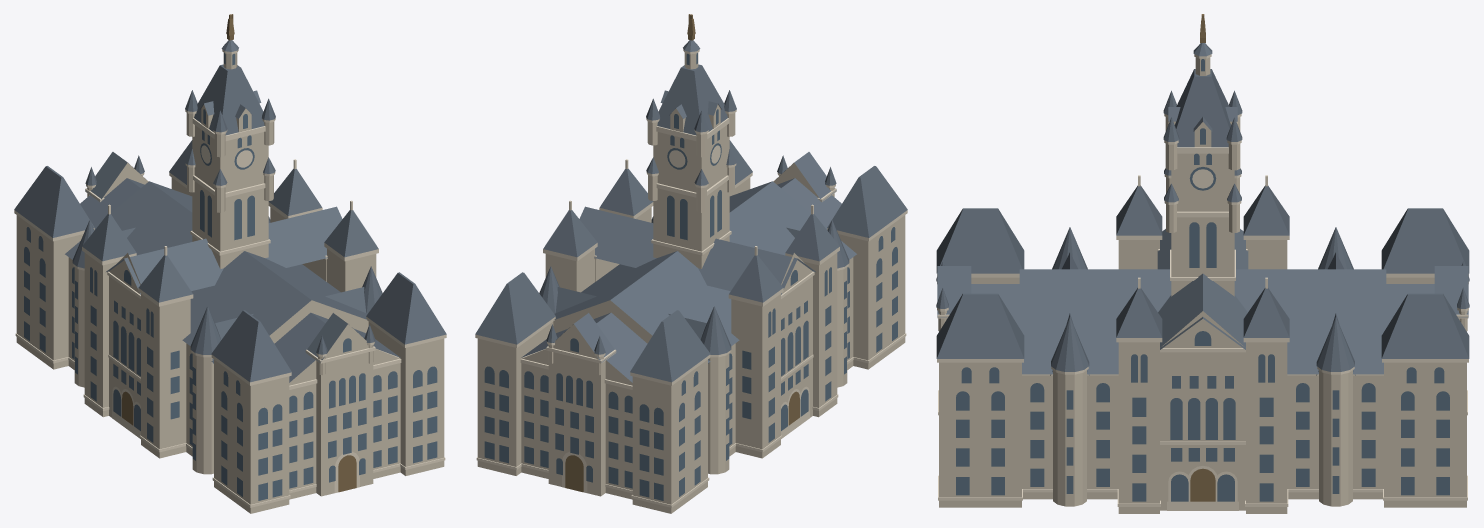
The model's file is slc-city-and-county-building.glb.
3 renders of one model, left to right at view 1: azimuth 30°, elevation 25°; view 2: azimuth 150°, elevation 25°; view 3: azimuth 270°, elevation 25°, orthographic. The views are drawn at different scales.
Visible parts, largest first — view 1: Salt Lake City and County Building; view 2: Salt Lake City and County Building; view 3: Salt Lake City and County Building.
Part boxes in pixels (x1,y1,x2,y2): Salt Lake City and County Building: (14, 14, 446, 513); Salt Lake City and County Building: (475, 14, 907, 513); Salt Lake City and County Building: (936, 14, 1469, 513).
Size of the model in its own units: 45.5 by 77 by 84.63.
